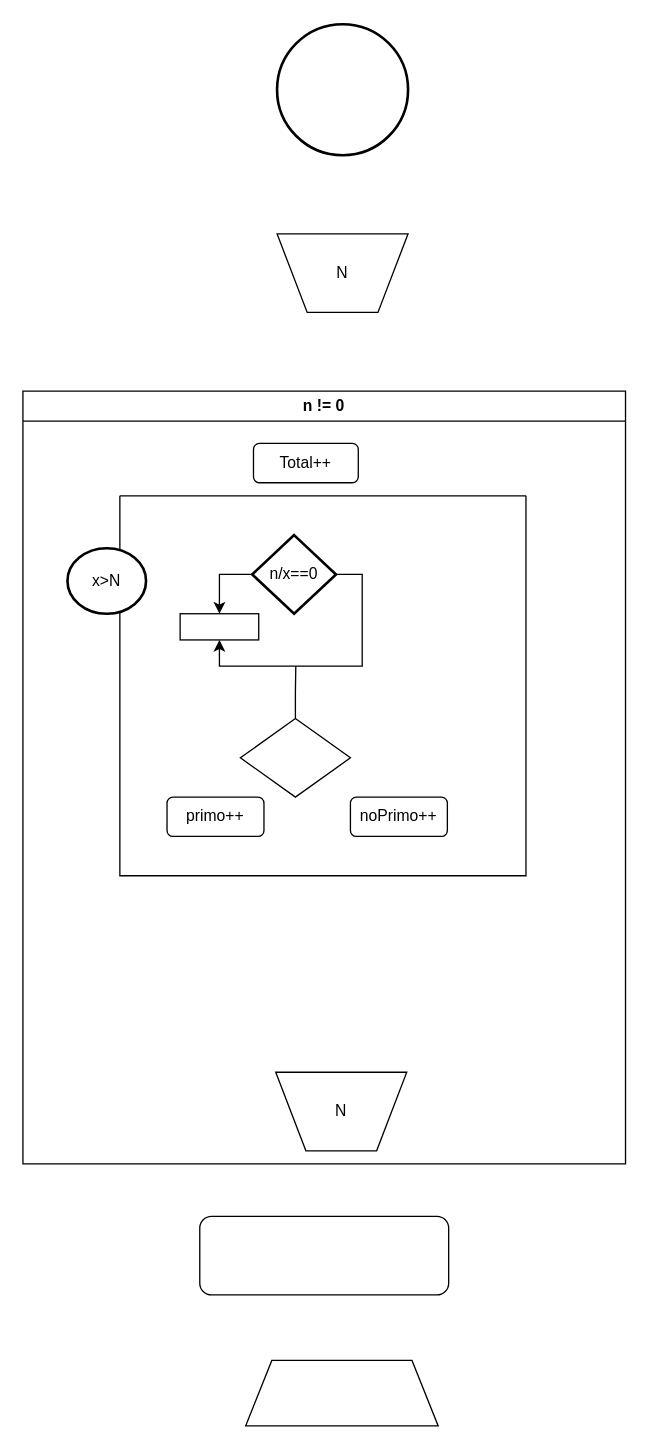
The diagram is 648 pixels wide and 1449 high, and some of its shapes have lost their labels. The shapes that lost their labels are listed below. From the top down, each one's box as (x1, y1, x2, y2) in pixels, then its label:
(179, 612, 259, 640): NPrimo++
(239, 717, 350, 797): NPrimo==2
(198, 1215, 449, 1295): porPrimo=(primo/total)*100 pNoPrimo=(noPrimo/total)*100
(244, 1359, 438, 1426): porPrimo, pNoPrimo
